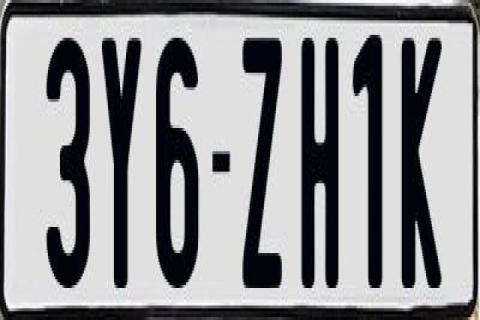0: (46, 35, 88, 303), (155, 38, 197, 291), (352, 32, 382, 291)
H: (300, 29, 344, 279)
K: (402, 35, 448, 299)
Y: (98, 35, 138, 299)
Z: (242, 32, 282, 296)
